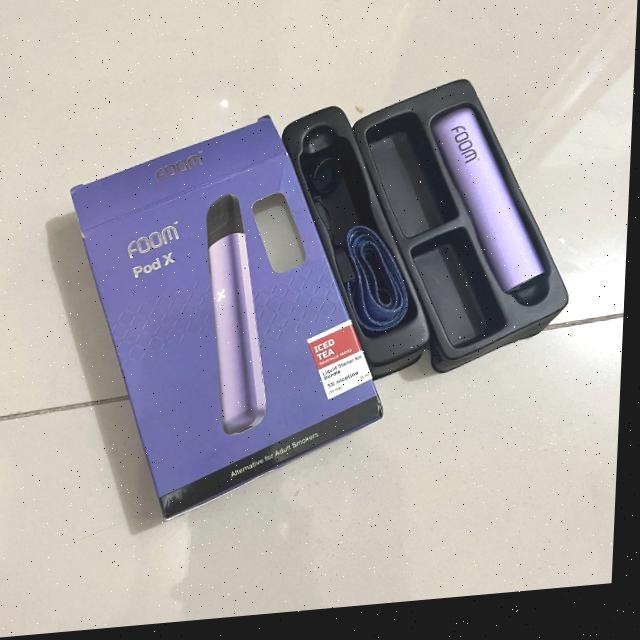vape: (426, 109, 560, 325), (201, 194, 280, 443)
